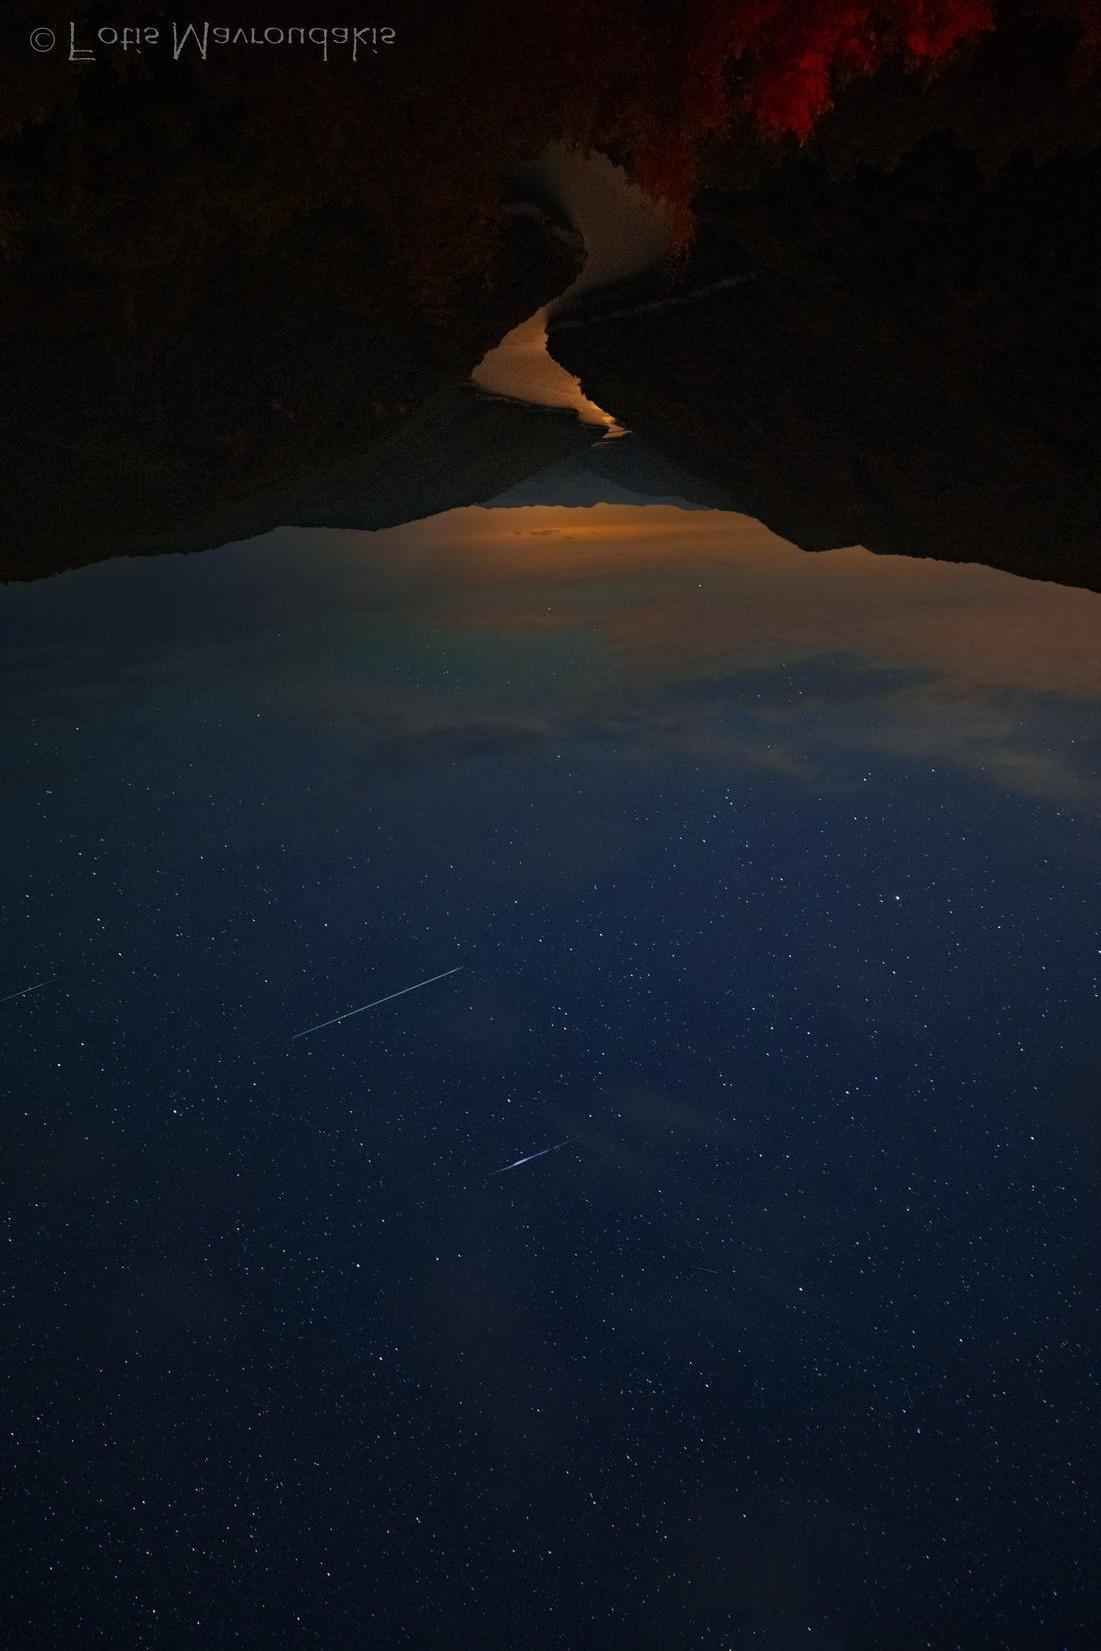meteorite: (295, 956, 483, 1045), (473, 1125, 586, 1189)
